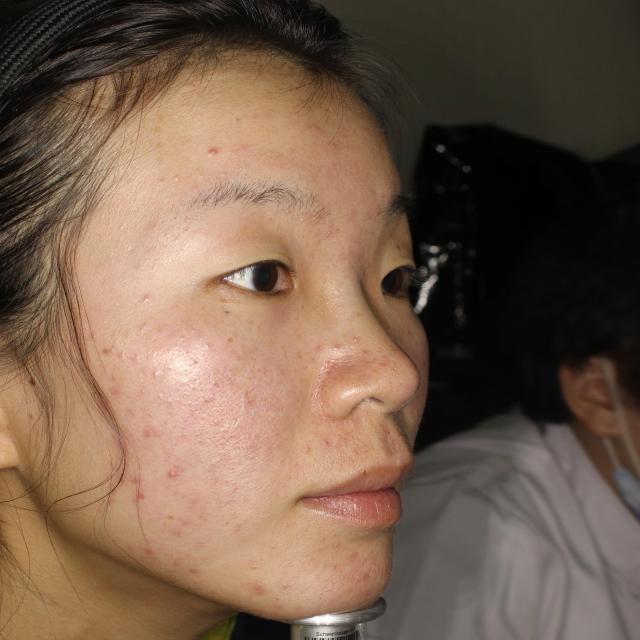pustule: (248, 572, 279, 608), (138, 414, 164, 445), (158, 463, 185, 488), (139, 534, 160, 566), (122, 484, 152, 506), (108, 376, 128, 398)
